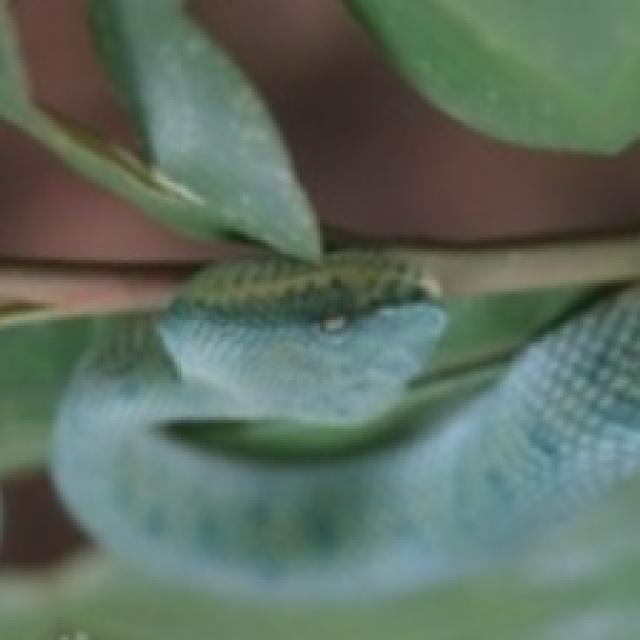north ph temple pitviper: (51, 254, 637, 597)
